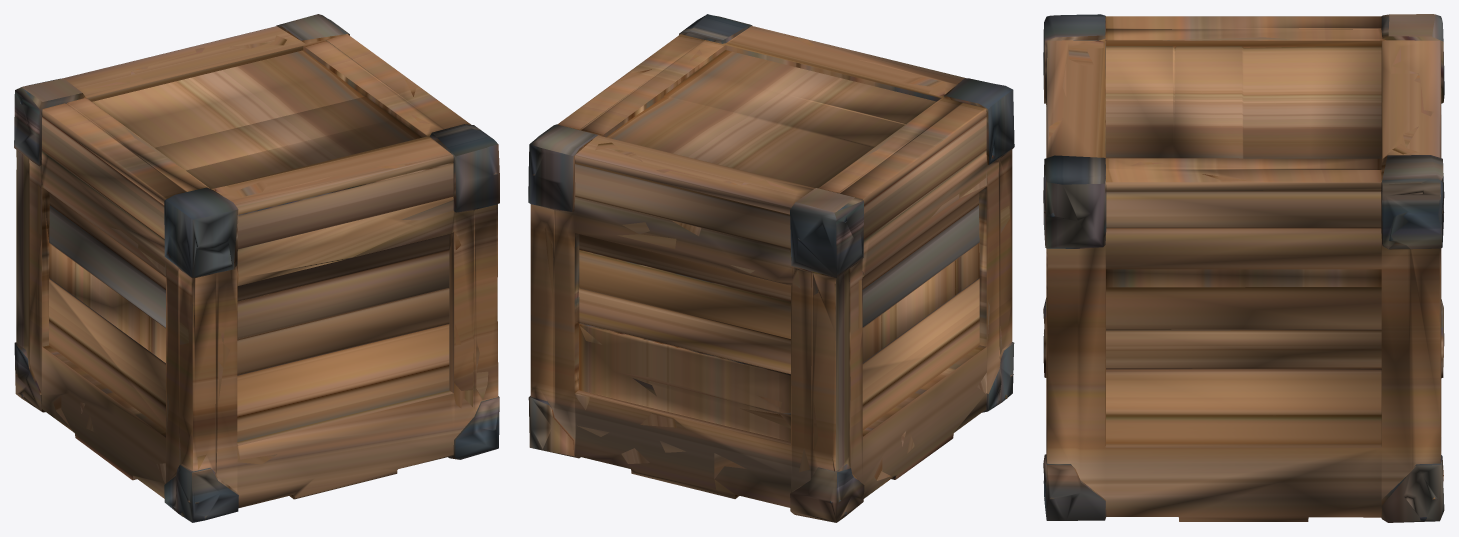
Rendered from prop_crate.glb.
3 views of the same model, side by side, from view 1: azimuth 30°, elevation 25°; view 2: azimuth 150°, elevation 25°; view 3: azimuth 270°, elevation 25° (orthographic). The views are drawn at different scales.
Visible parts, largest first — view 1: node_0; view 2: node_0; view 3: node_0.
Boxes of the visible parts, left/top/right/bottom form: node_0: left=14, top=14, right=499, bottom=522; node_0: left=528, top=14, right=1014, bottom=522; node_0: left=1043, top=14, right=1444, bottom=522.
Size of the model in its own units: 0.7171 by 0.6819 by 0.7178.
Materials: 1 (1 with a texture image).
